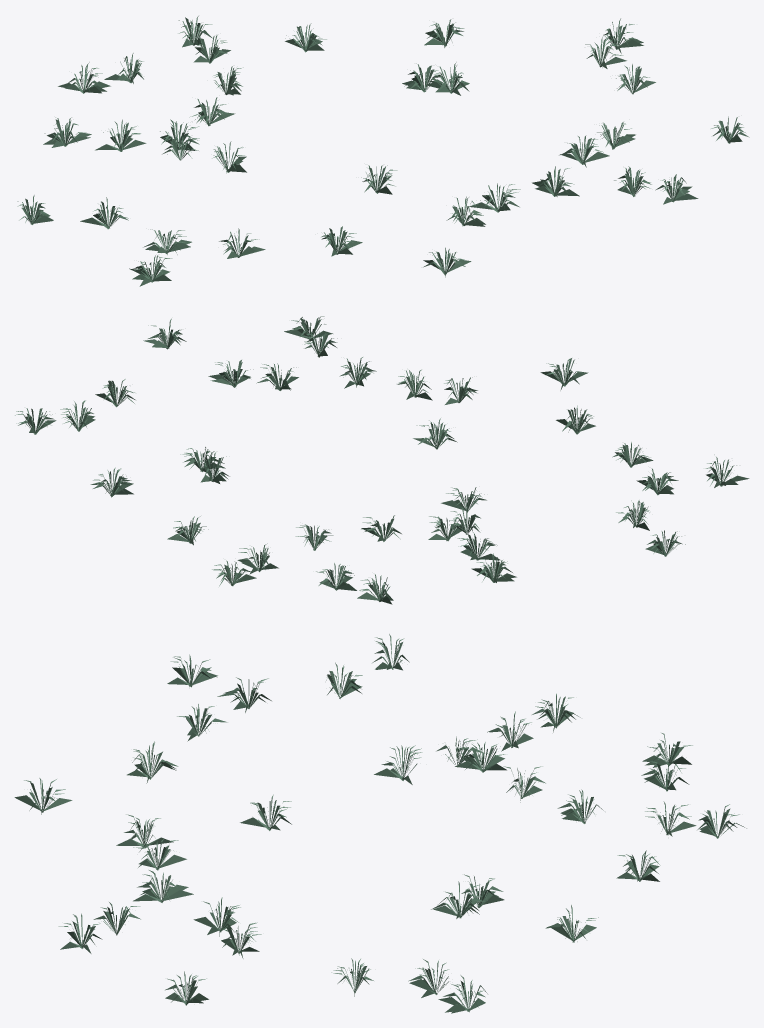
Rendered from teaching3-vegetation-20-medium.glb.
The picture shows the model from 3 angles, top to bottom: view 1: azimuth 30°, elevation 25°; view 2: azimuth 150°, elevation 25°; view 3: azimuth 270°, elevation 25°; orthographic projection. The views are drawn at different scales.
Visible parts, largest first — view 1: mondo grass.003; view 2: mondo grass.003; view 3: mondo grass.003.
Part boxes in pixels (<box>): mondo grass.003: <box>17,16,749,286</box>; mondo grass.003: <box>15,316,749,604</box>; mondo grass.003: <box>14,634,746,1013</box>.
Bounding box in the file's own units: 12.69 × 0.486 × 10.84.
